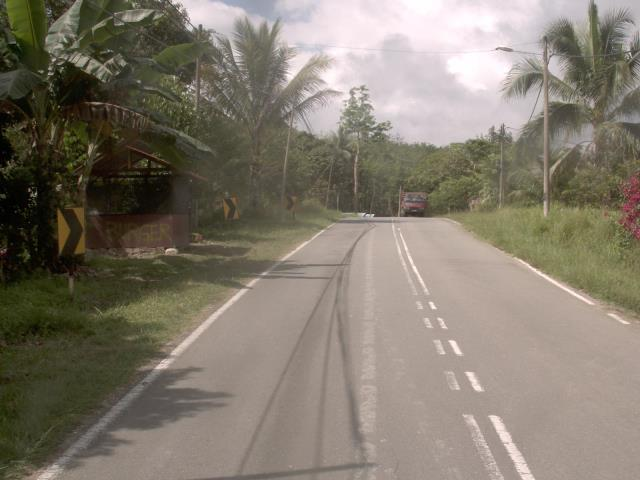traffic_sign: (47, 196, 95, 267)
